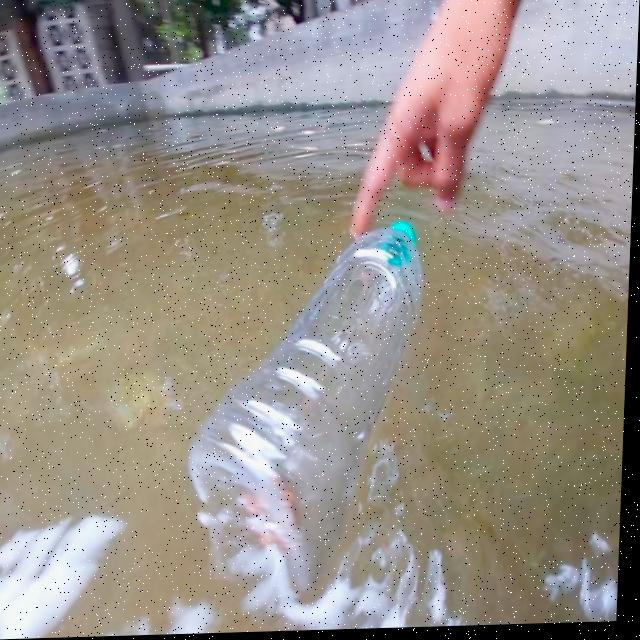waterbottle: (163, 200, 472, 622)
